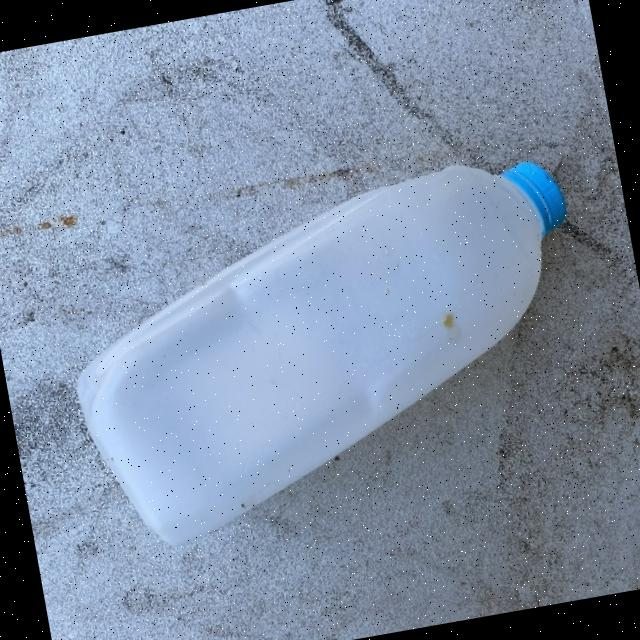plastic: (46, 145, 612, 558)
